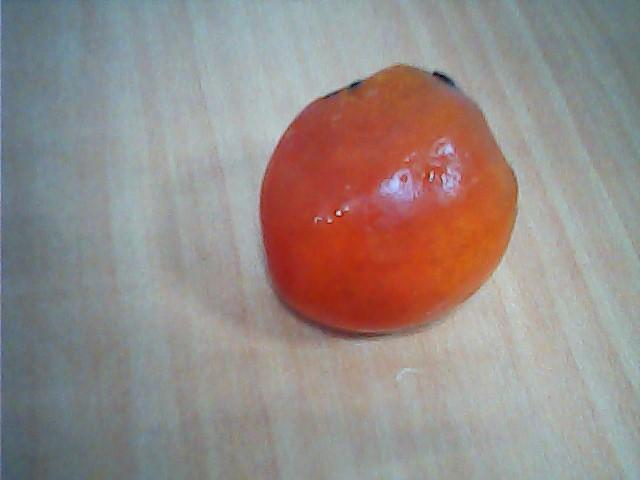defectuoso: (256, 53, 521, 342)
